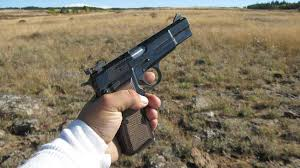gun: (78, 10, 197, 161)
